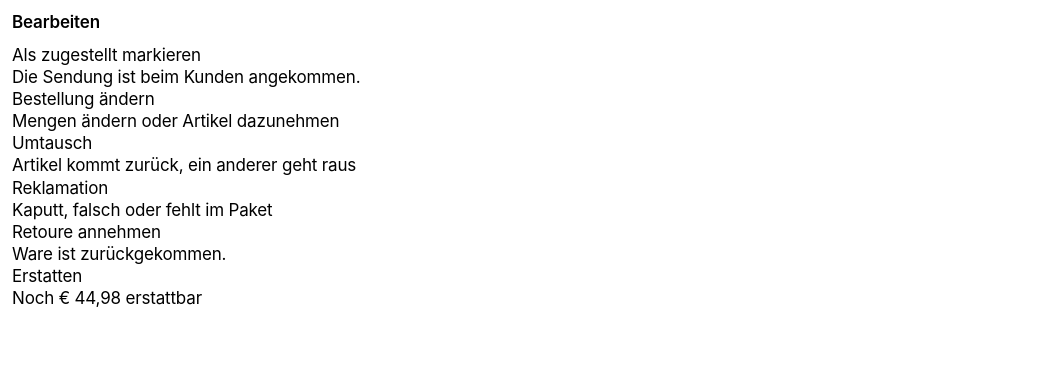
mark as delivered shows at once › a lost answer does not take it back (the shop may have done it)
Click the button "Als zugestellt markieren". click: {"x": 106, "y": 55}
box: [12,44,1036,88]
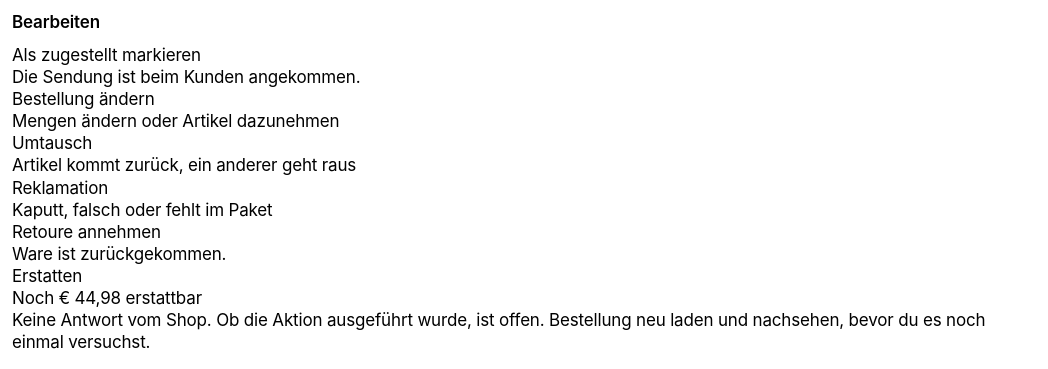
Now the text "Keine Antwort" is shown, box [12,310,985,352]
